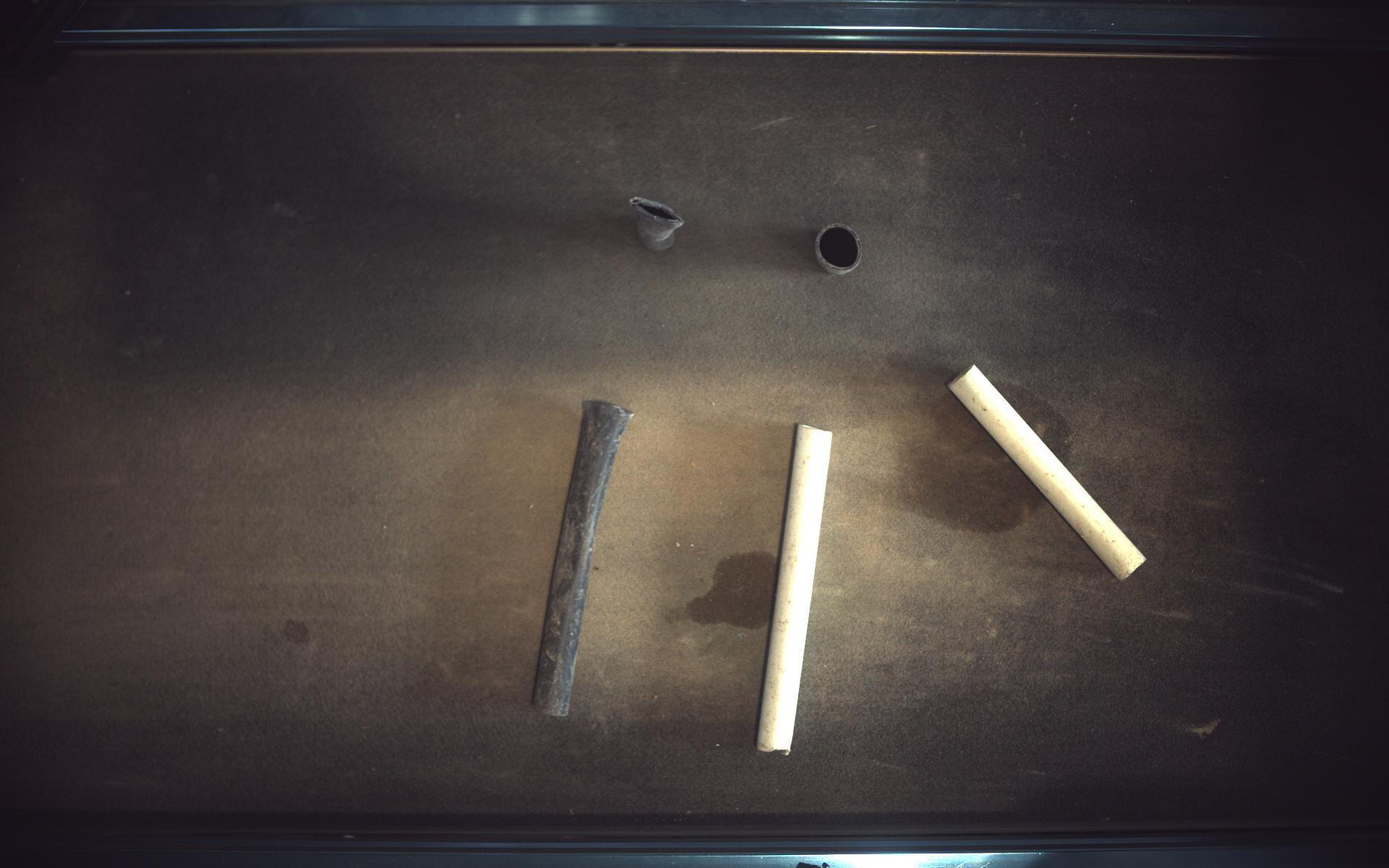pipes: (951, 365, 1148, 581), (533, 400, 633, 718), (758, 424, 833, 754), (630, 195, 685, 250), (816, 222, 865, 275)
